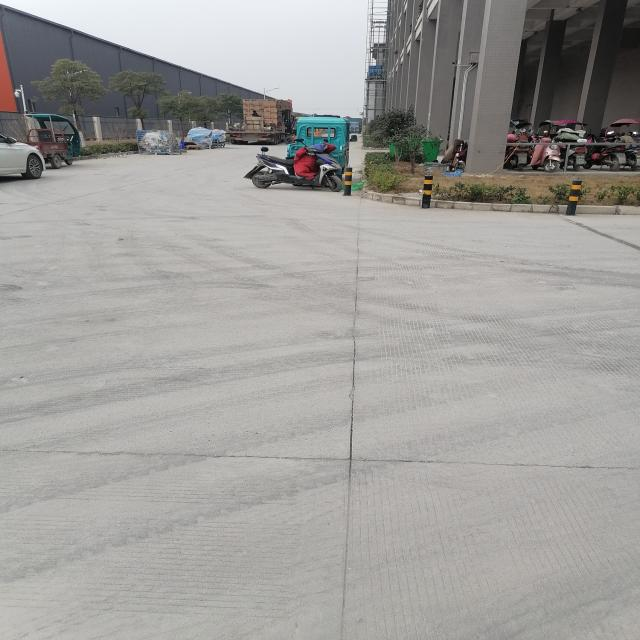ash bin: (419, 137, 444, 163)
car: (0, 134, 46, 180)
motorbike: (240, 137, 344, 192), (532, 130, 562, 172)
tricycle: (284, 116, 358, 171), (21, 113, 81, 169)
truck: (224, 98, 294, 144)
warning_column: (564, 178, 582, 217), (421, 174, 434, 209), (342, 165, 353, 195)
